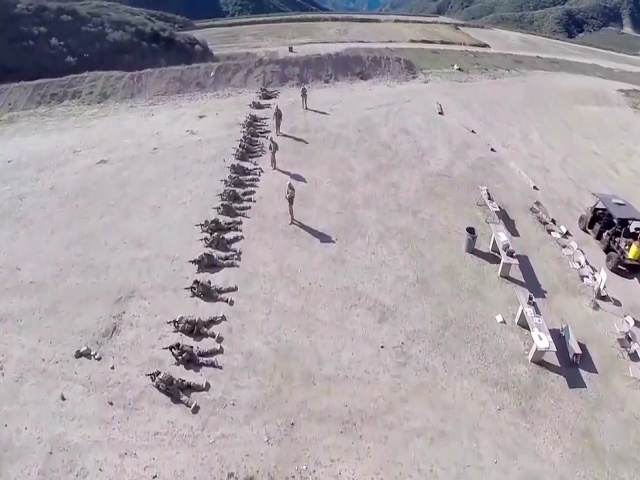person: (147, 368, 209, 414), (159, 341, 222, 370), (168, 311, 225, 342), (183, 275, 237, 307), (184, 249, 240, 274), (194, 232, 245, 251), (194, 217, 245, 232), (219, 174, 261, 190), (224, 161, 263, 178), (210, 202, 252, 217), (215, 188, 257, 202), (284, 182, 297, 226), (267, 135, 278, 170), (272, 104, 283, 136), (299, 83, 310, 112)
vehicle: (578, 192, 640, 272)
